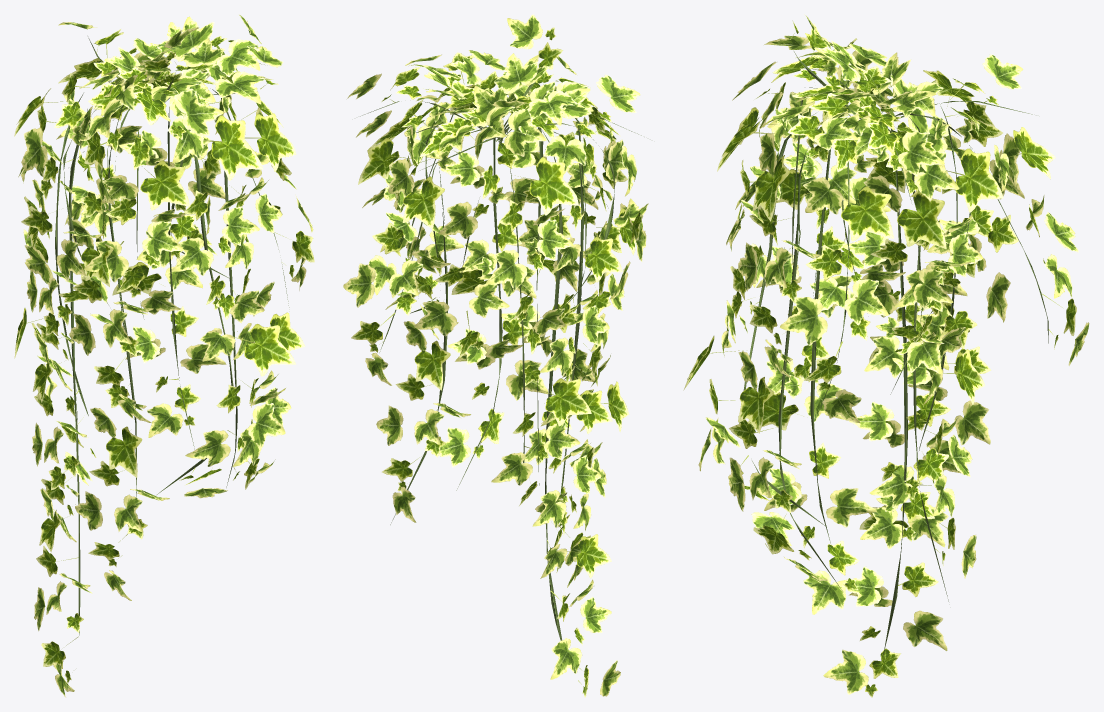
File: ivy_decimate_nopot.gltf
3 renders of one model, left to right at view 1: azimuth 30°, elevation 25°; view 2: azimuth 150°, elevation 25°; view 3: azimuth 270°, elevation 25°, orthographic. The views are drawn at different scales.
Parts seen in each view (by area): view 1: ivy leaf a 1-1.017_leaf a 1_0; view 2: ivy leaf a 1-1.017_leaf a 1_0; view 3: ivy leaf a 1-1.017_leaf a 1_0.
Part boxes in pixels (x1,y1,x2,y2): ivy leaf a 1-1.017_leaf a 1_0: (14,14,314,697); ivy leaf a 1-1.017_leaf a 1_0: (343,14,648,697); ivy leaf a 1-1.017_leaf a 1_0: (683,14,1089,697).
Bounding box in the file's own units: 26.35 × 59.37 × 29.84.
Materials: 3 (3 with a texture image).
